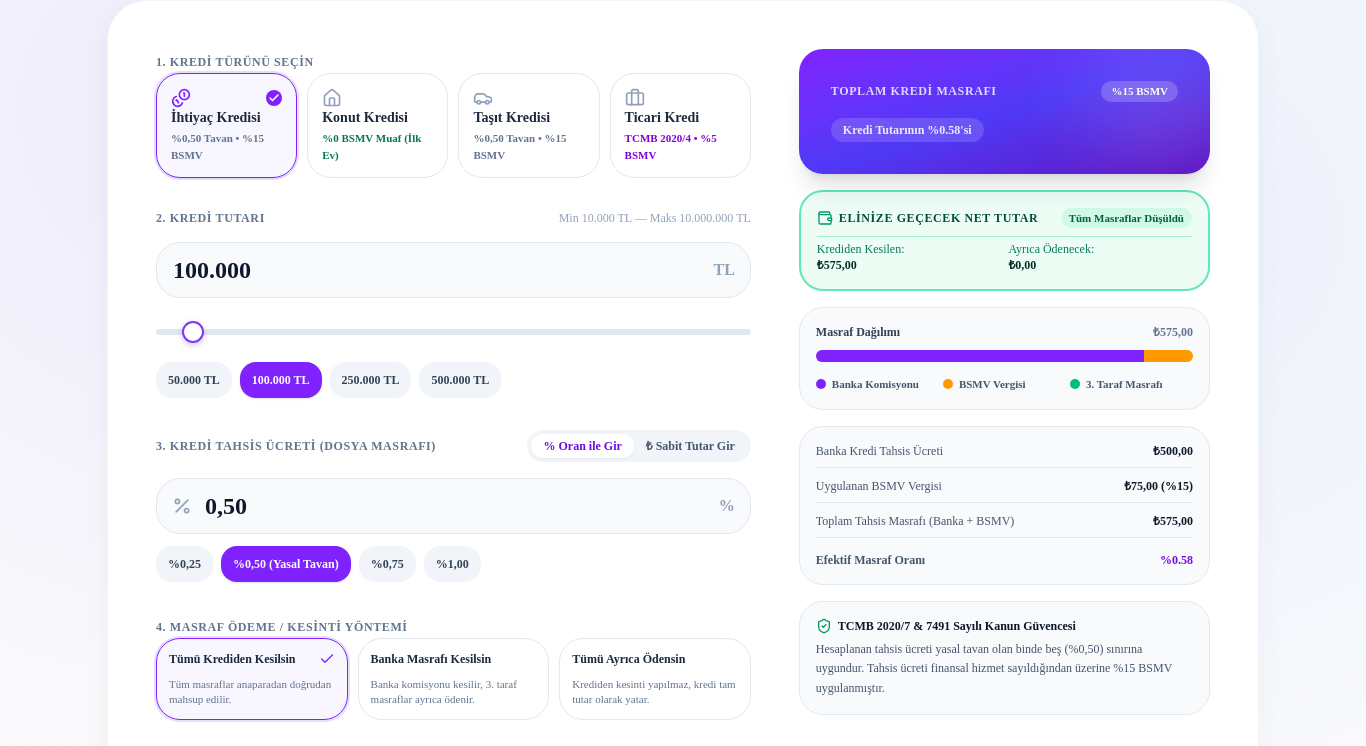
Test: LoanFeeForm Component › updates usage fee ceiling when 180-day commercial loan term is selected (%0.55)
This screenshot has width=1366, height=746.
Click the text "Ticari Kredi" at (662, 118), box left=625, top=110, right=699, bottom=125
(page scrolled)
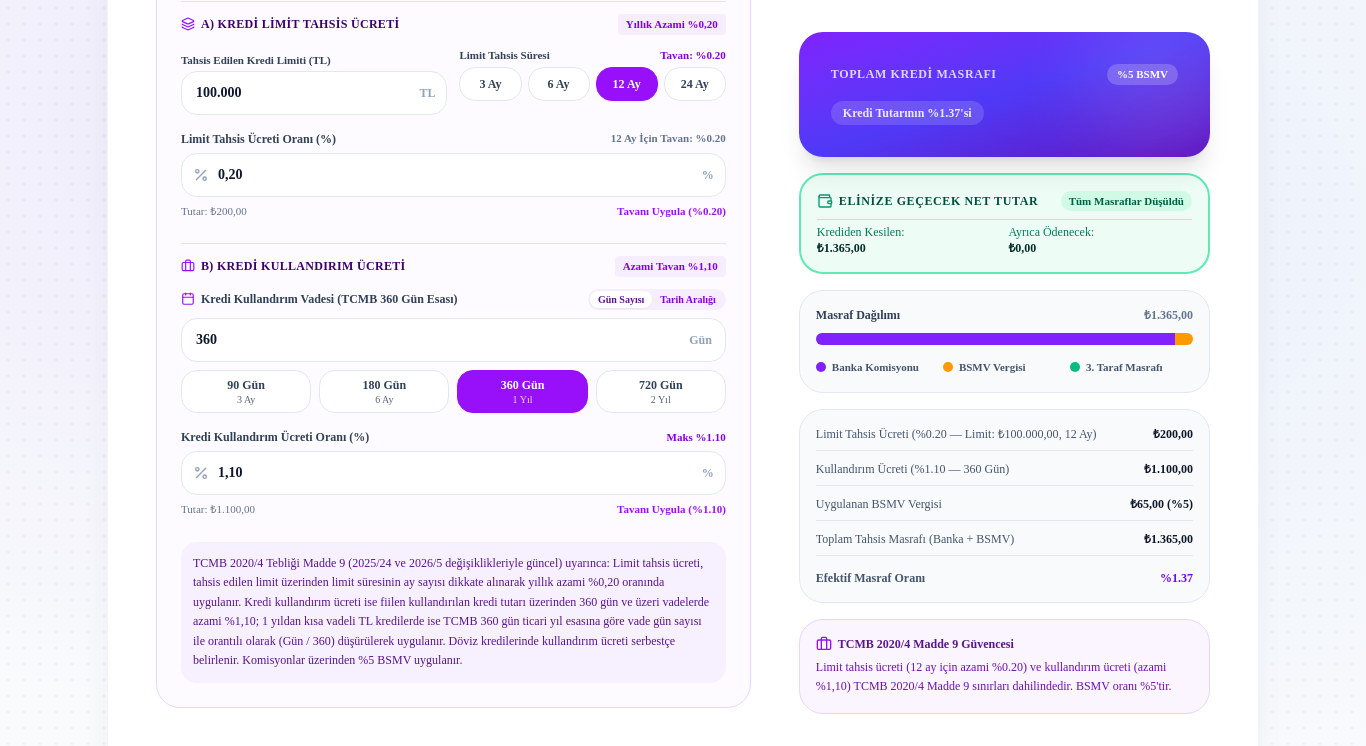
// Select 180 Gün chip
Click the text "180 Gün" at (384, 385), box left=362, top=378, right=406, bottom=392
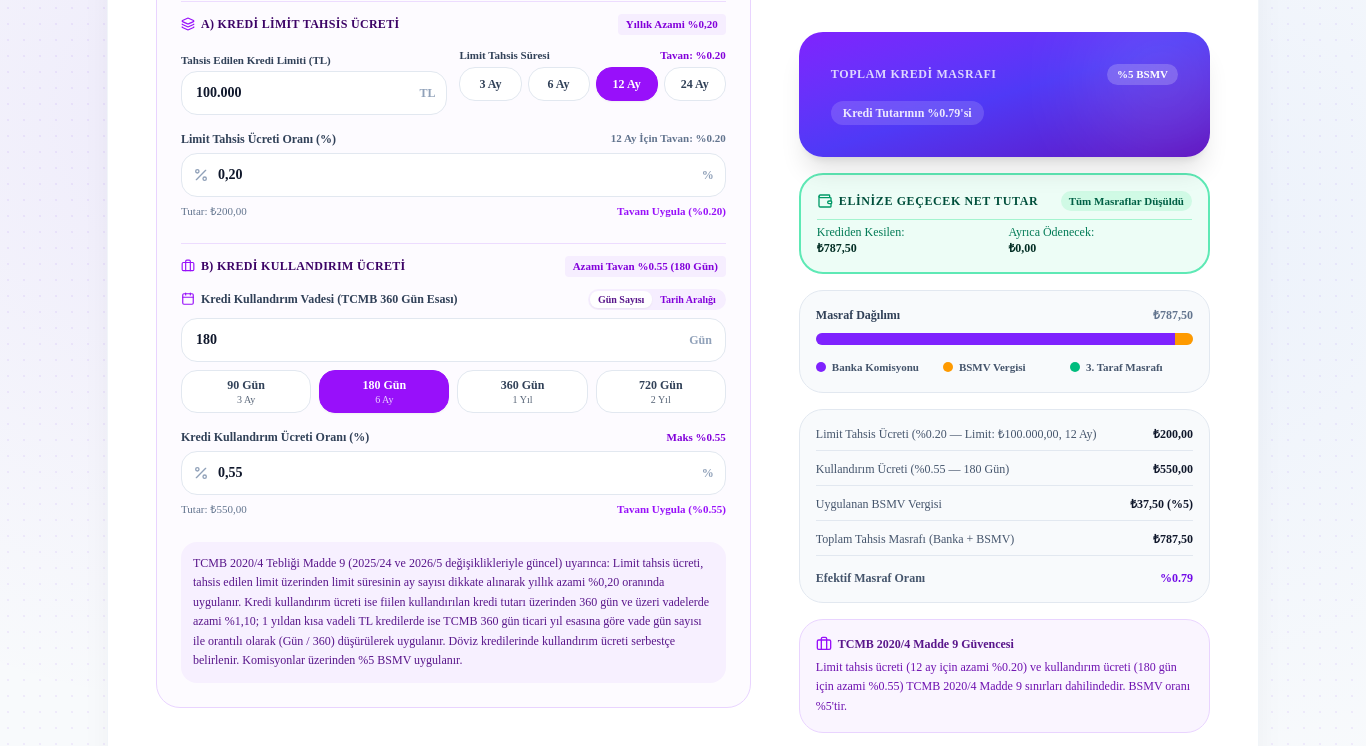
expect the text "Azami Tavan %0.55 (180 Gün)" is shown: met, box left=565, top=256, right=726, bottom=276
